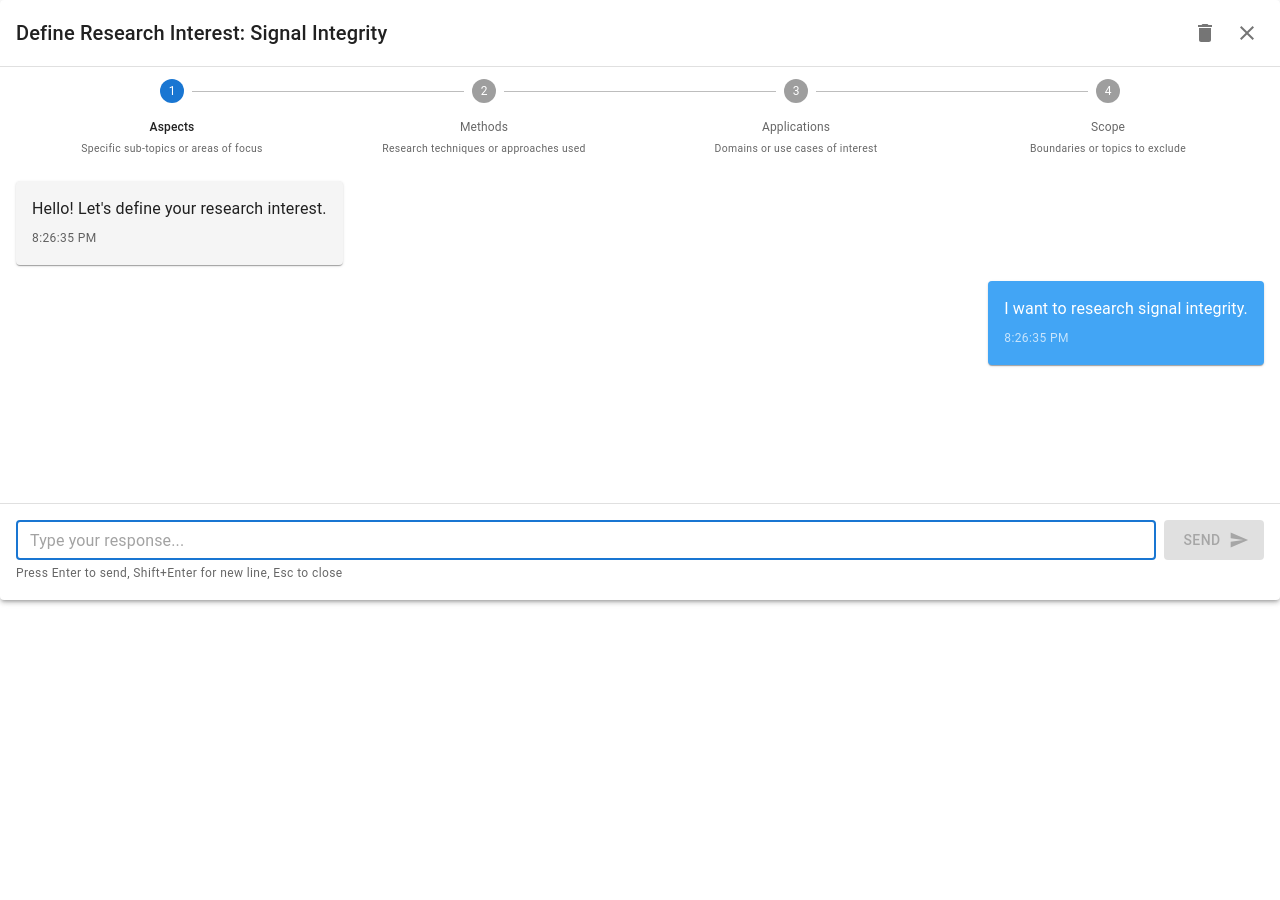
Test case: ChatbotUI Accessibility › Conversation History Deletion (Task 15.1) › should close dialog when cancel button is clicked
Click the button named "Delete conversation history" at (1205,33), box [1188, 16, 1222, 50]
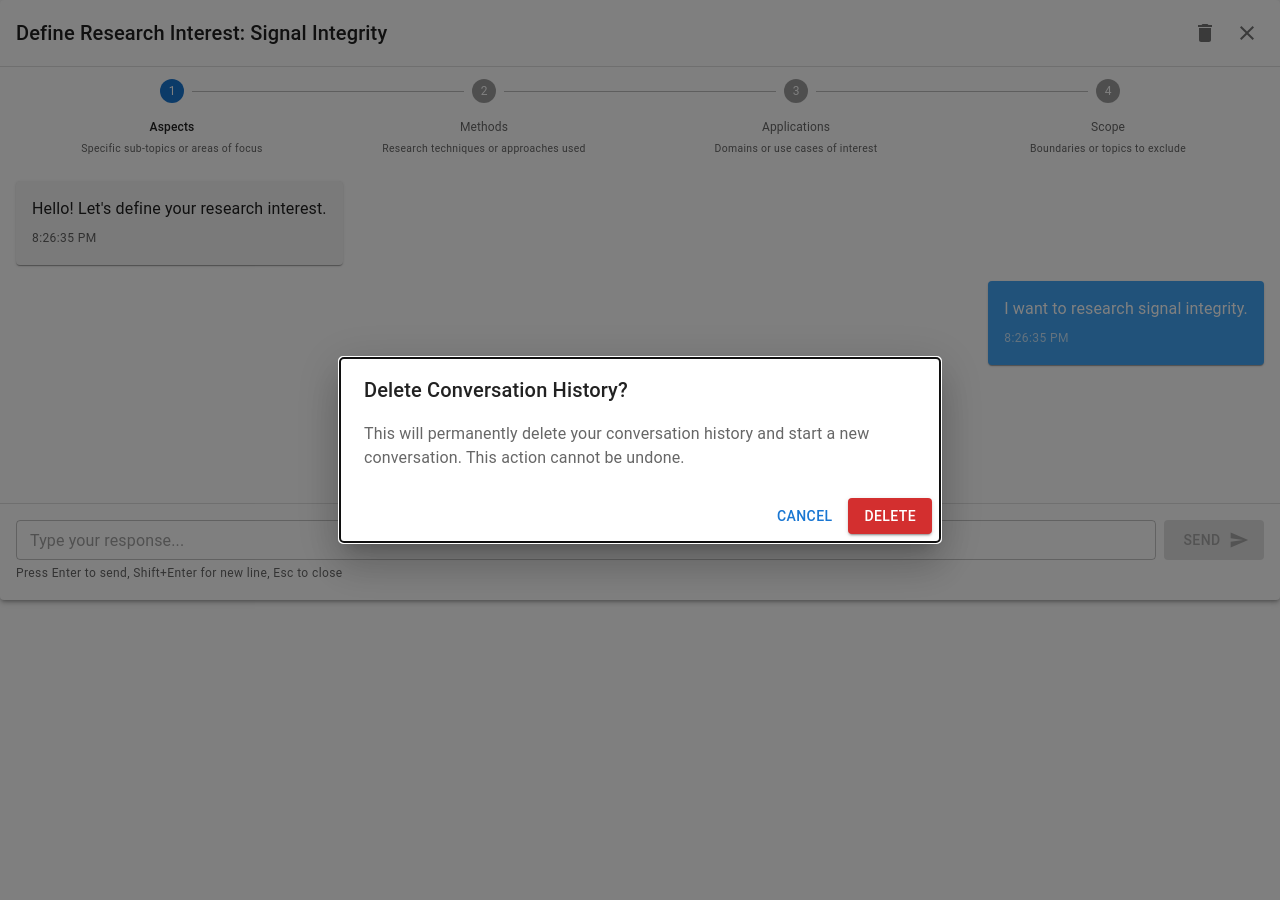
Click the button with aria-label "Cancel deletion" at (805,516), box [769, 498, 840, 534]
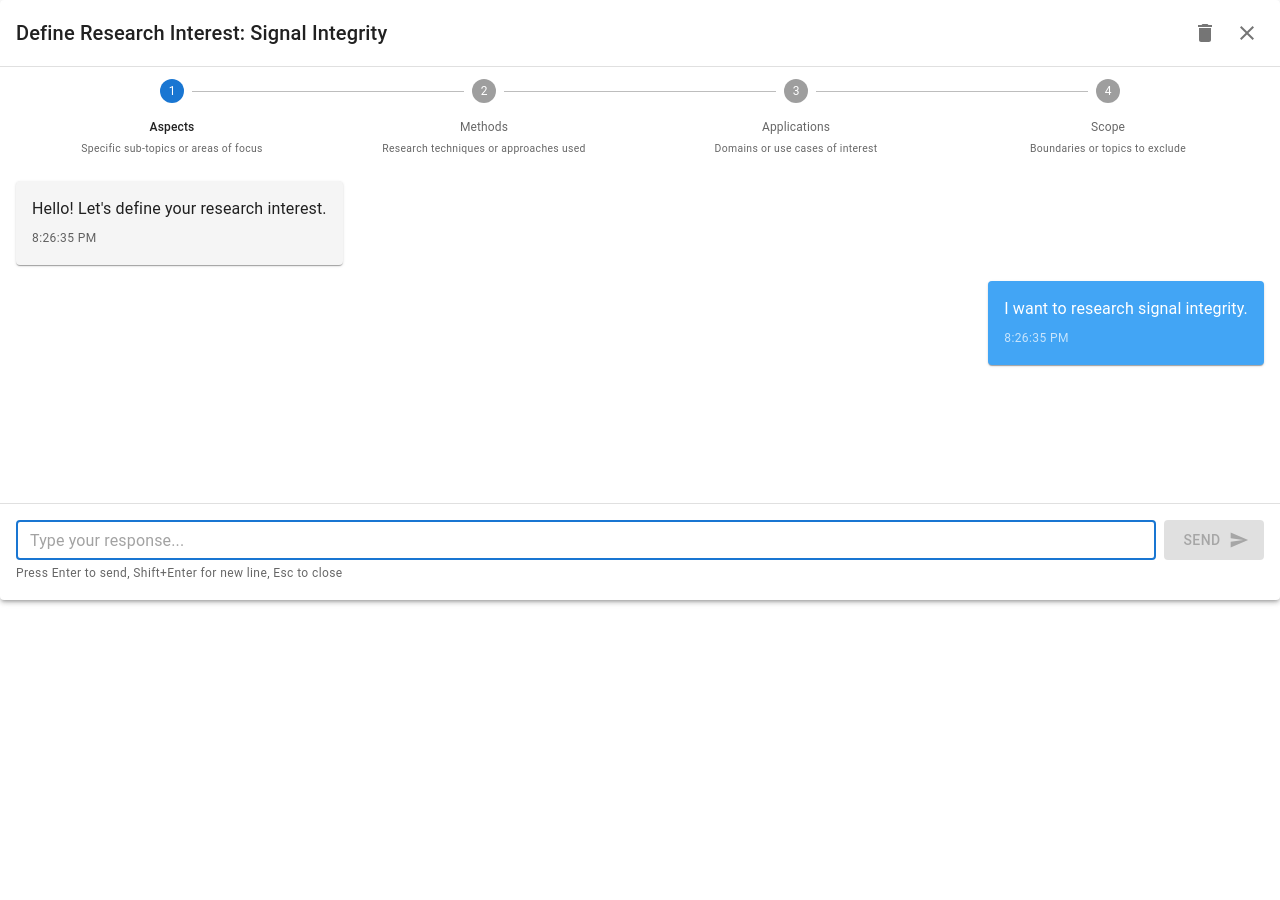
Check: the heading "Delete Conversation History?" is gone
